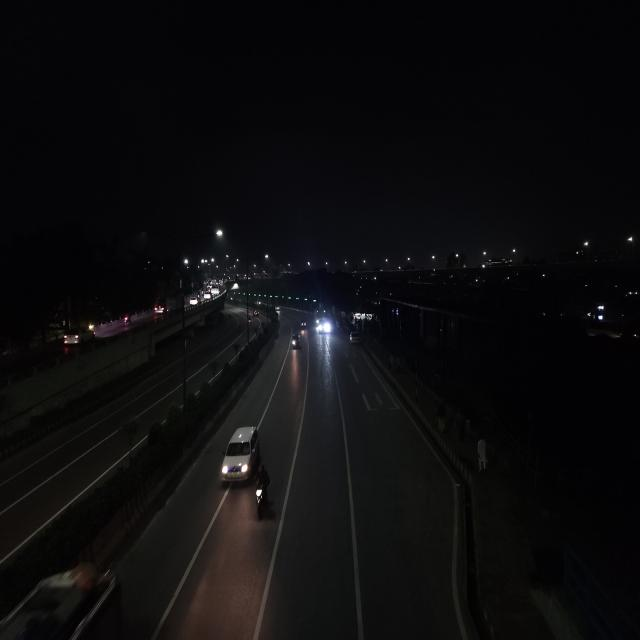bus: (315, 314, 330, 336)
car: (218, 422, 264, 489), (60, 325, 96, 355), (348, 328, 362, 348), (290, 332, 302, 352), (153, 304, 169, 318), (188, 295, 199, 308)
motorcycle: (252, 463, 274, 520), (122, 313, 132, 328)
